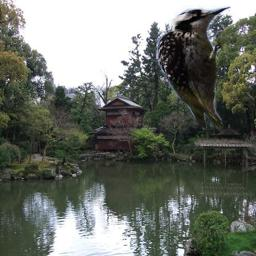Woodpecker: (150, 0, 235, 134)
